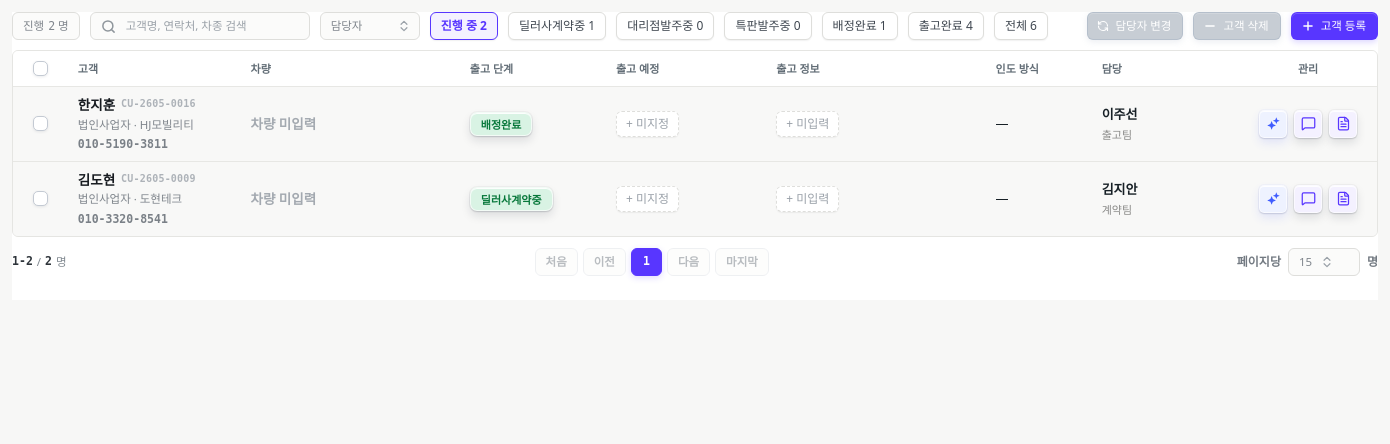
출고 관리(delivery) 콘솔 › 출고완료 pill 클릭 시 출고완료만 노출 + 카운트 라벨 전환
Click the button "출고완료 4": [946, 26] box [908,12,984,40]
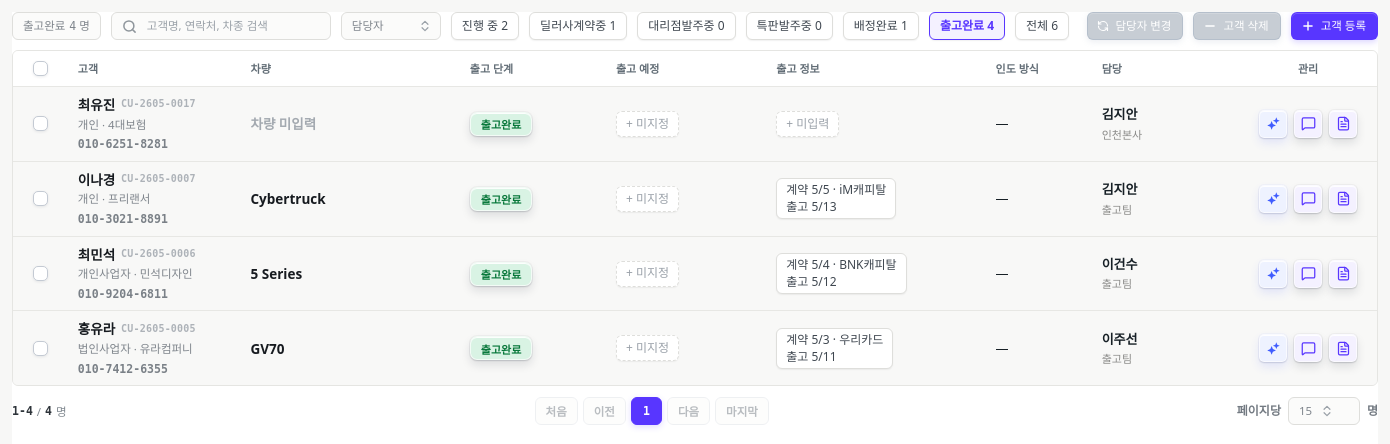
Result: the text "최유진" is shown at [78,96,115,114]
Result: the text "한지훈" is gone
Result: the text "출고완료" is shown at [23,18,65,33]
